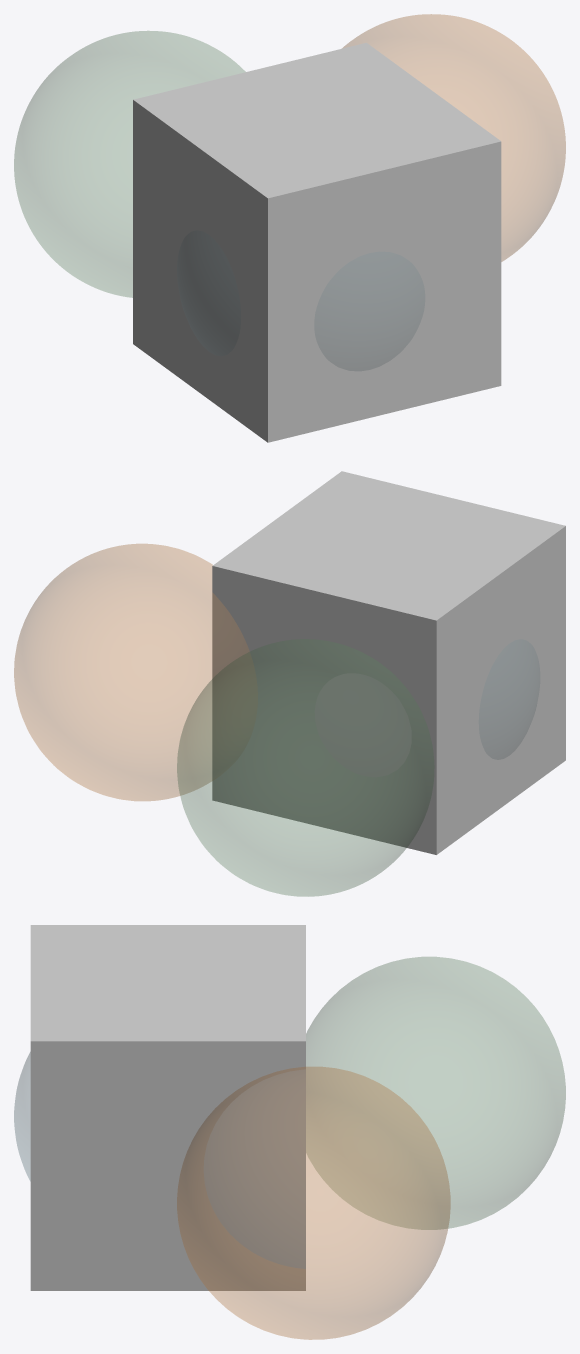
File: magic_orb.fbx
3 renders of one model, top to bottom at view 1: azimuth 30°, elevation 25°; view 2: azimuth 150°, elevation 25°; view 3: azimuth 270°, elevation 25°, orthographic. The views are drawn at different scales.
Visible parts, largest first — view 1: player, Sphere_002, Sphere_001, Sphere; view 2: player, Sphere_002, Sphere_001, Sphere; view 3: player, Sphere_001, Sphere_002, Sphere.
Part boxes in pixels (x1,y1,x2,y2): player: (133, 42, 501, 442); Sphere_002: (14, 31, 245, 297); Sphere_001: (342, 14, 565, 261); Sphere: (177, 231, 424, 370); player: (212, 471, 565, 854); Sphere_002: (177, 639, 434, 896); Sphere_001: (14, 544, 248, 800); Sphere: (479, 639, 539, 759); player: (30, 925, 305, 1290); Sphere_001: (177, 1067, 450, 1339); Sphere_002: (306, 957, 565, 1229); Sphere: (14, 1052, 30, 1180).
Size of the model in its own units: 3.93 by 2.13 by 4.01.
